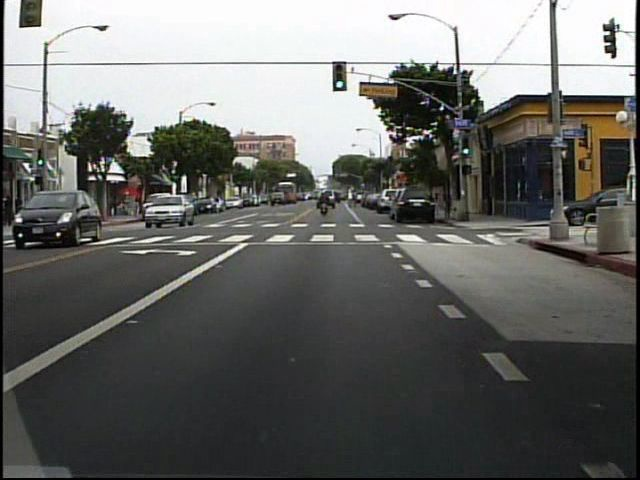person: (6, 193, 19, 226), (317, 188, 330, 216), (16, 191, 27, 218)
